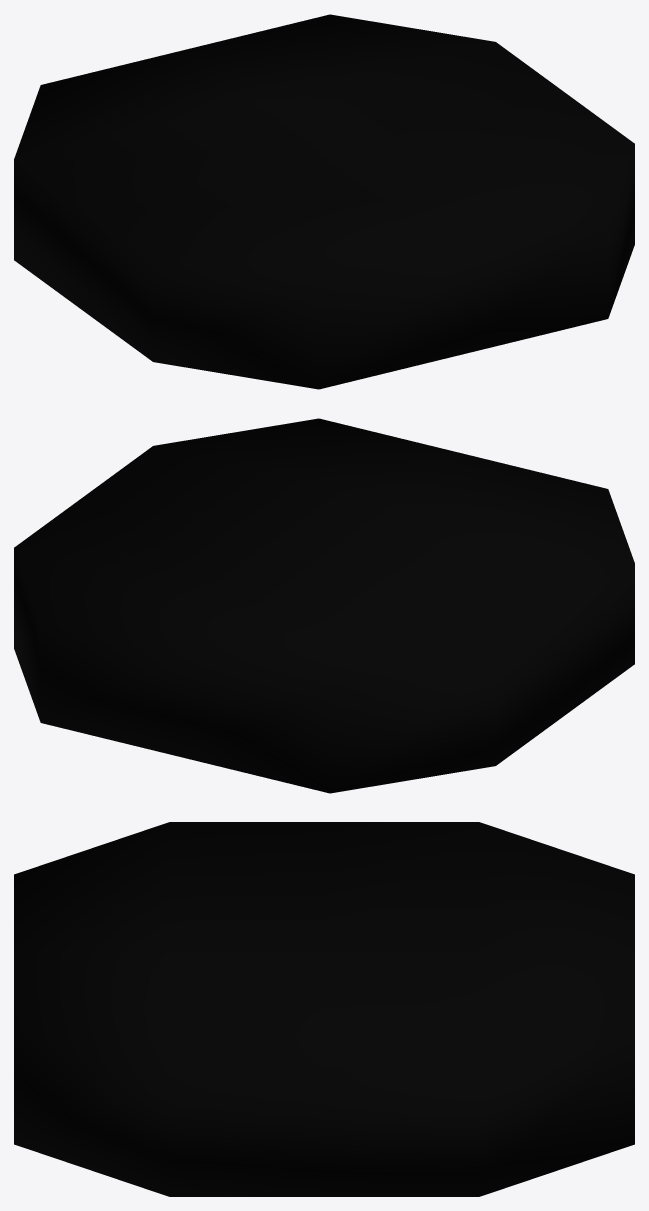
The picture shows the model from 3 angles, top to bottom: view 1: azimuth 30°, elevation 25°; view 2: azimuth 150°, elevation 25°; view 3: azimuth 270°, elevation 25°; orthographic projection. The views are drawn at different scales.
Visible parts, largest first — view 1: T1L3M004_27; view 2: T1L3M004_27; view 3: T1L3M004_27.
Part boxes in pixels (<box>): T1L3M004_27: <box>14,14,634,389</box>; T1L3M004_27: <box>14,418,634,793</box>; T1L3M004_27: <box>14,822,634,1196</box>.
Size of the model in its own units: 2 by 0.3994 by 2.
